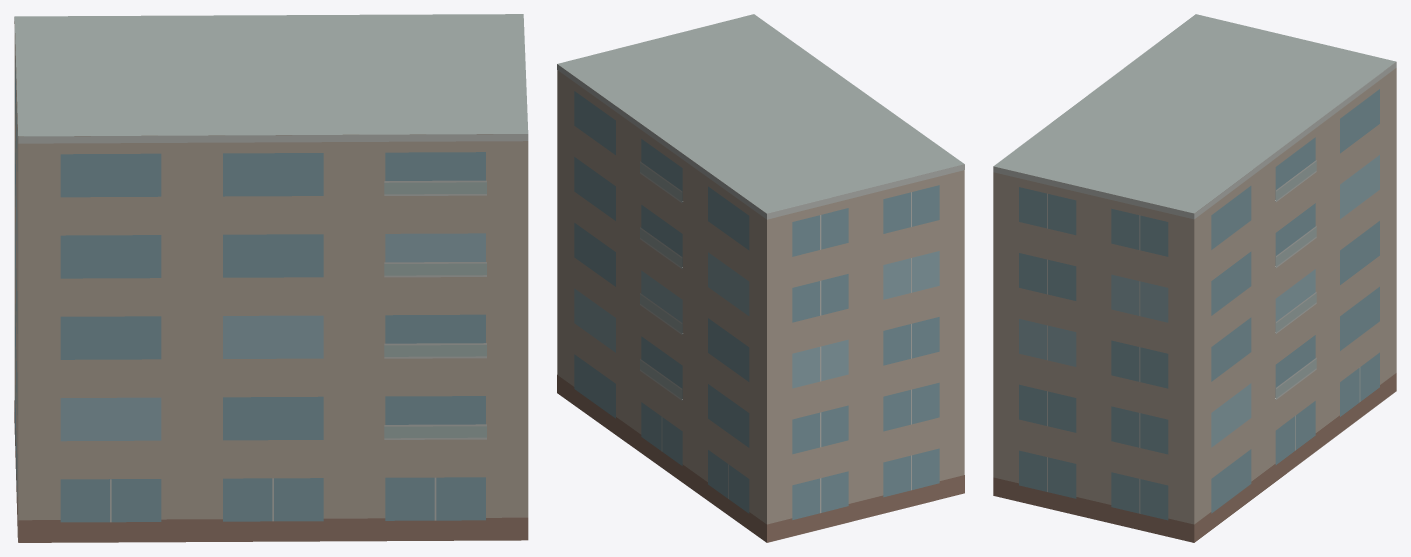
File: survey-upis-33021798.glb
The picture shows the model from 3 angles, left to right: view 1: azimuth 30°, elevation 25°; view 2: azimuth 150°, elevation 25°; view 3: azimuth 270°, elevation 25°; orthographic projection. The views are drawn at different scales.
Parts seen in each view (by area): view 1: survey-upis-33021798.tmp; view 2: survey-upis-33021798.tmp; view 3: survey-upis-33021798.tmp.
Boxes of the visible parts, box(x1,y1,x2,y2) form: survey-upis-33021798.tmp: box(14, 14, 528, 542); survey-upis-33021798.tmp: box(557, 14, 964, 542); survey-upis-33021798.tmp: box(993, 14, 1396, 542).
Size of the model in its own units: 17.74 by 13.65 by 15.15.
